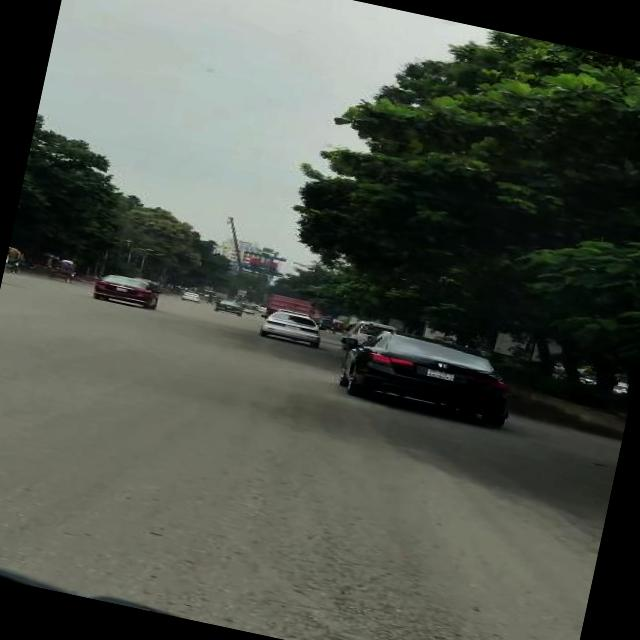car: (352, 327, 515, 431), (90, 268, 161, 312), (260, 307, 324, 346), (214, 296, 244, 316), (177, 288, 200, 303)
motorcycle: (46, 254, 80, 284), (4, 244, 26, 276), (328, 318, 346, 335), (240, 302, 254, 314)
truck: (265, 290, 317, 314), (345, 317, 372, 343)
